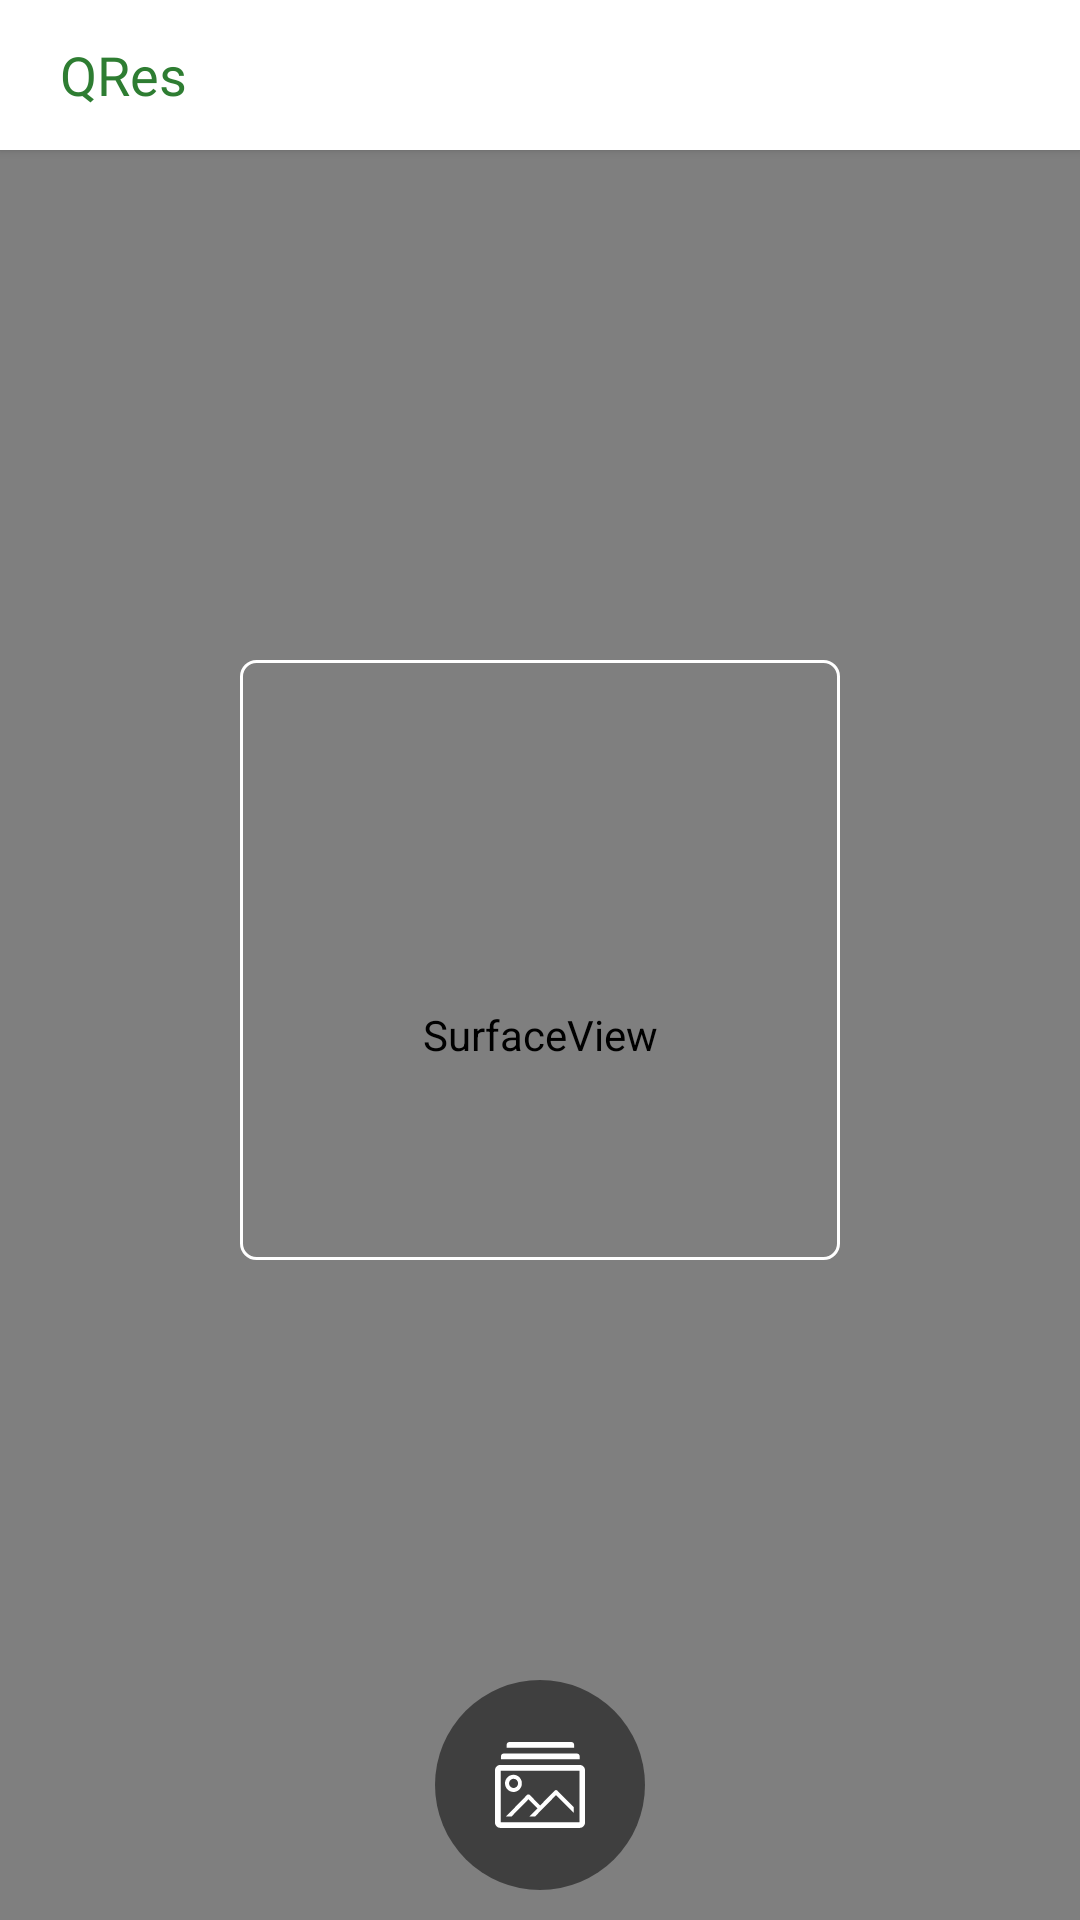

Point at icon controls on the screen. Image size 1080*1920, points as (x=x, y=y).
gallery: (x=540, y=1785)
